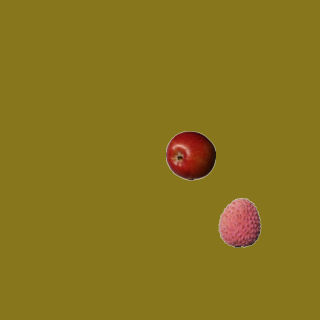Apple Braeburn: (165, 130, 215, 180)
Lychee: (214, 197, 264, 247)
